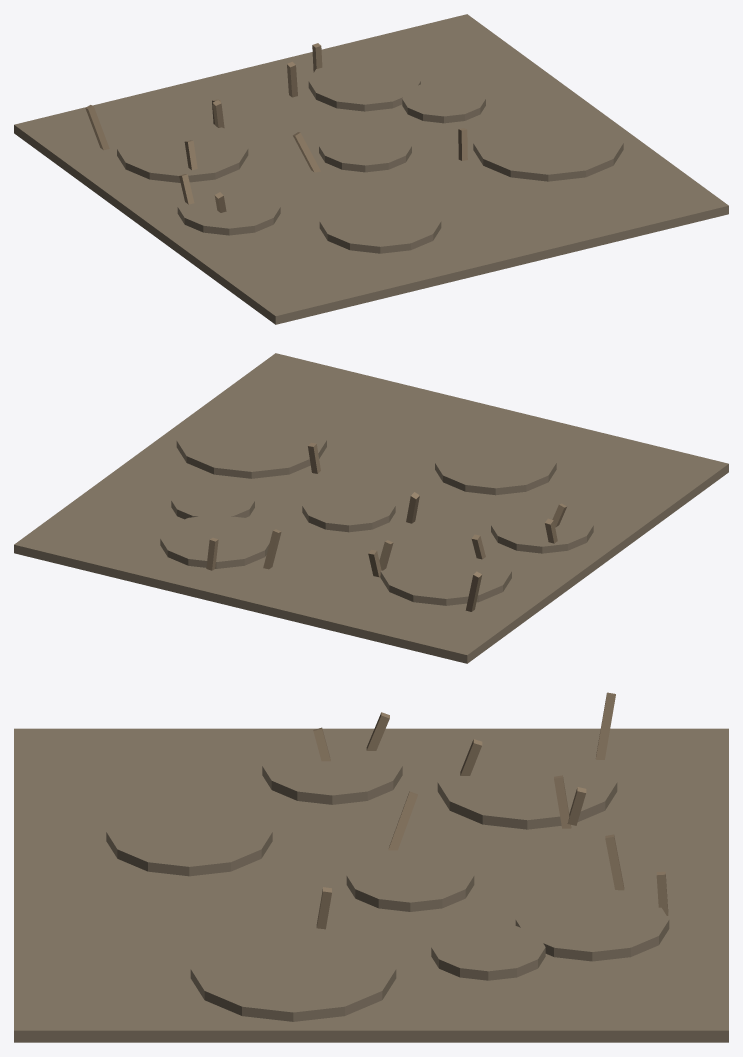
The model's file is setpiece-nomansland.glb.
3 views of the same model, one above another, from view 1: azimuth 30°, elevation 25°; view 2: azimuth 150°, elevation 25°; view 3: azimuth 270°, elevation 25° (orthographic). The views are drawn at different scales.
Parts seen in each view (by area): view 1: setpiece-nomansland; view 2: setpiece-nomansland; view 3: setpiece-nomansland.
Part boxes in pixels (<box>): setpiece-nomansland: <box>14,14,728,324</box>; setpiece-nomansland: <box>14,353,728,663</box>; setpiece-nomansland: <box>14,692,728,1042</box>.
Size of the model in its own units: 11 by 1.27 by 11.
